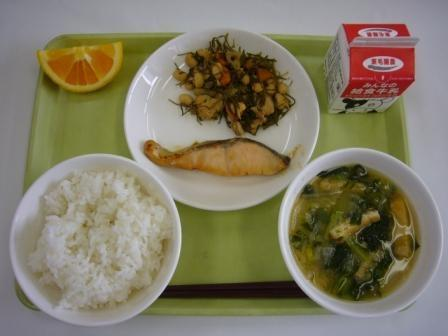Citrus: (28, 35, 121, 98)
Fish: (137, 125, 315, 196)
Milk: (322, 14, 418, 122)
Rice: (13, 165, 173, 315)
salad with sauce: (169, 37, 290, 140)
vegetable soup: (287, 156, 440, 305)
